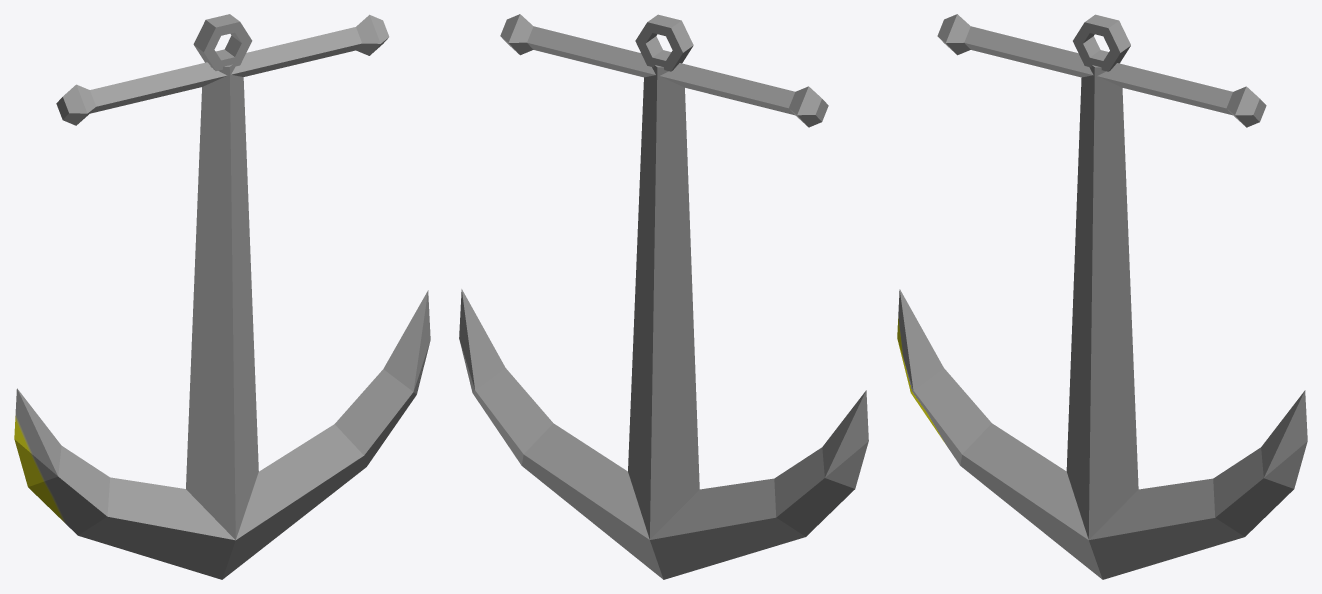
File: Neo.fbx
3 views of the same model, side by side, from view 1: azimuth 30°, elevation 25°; view 2: azimuth 150°, elevation 25°; view 3: azimuth 330°, elevation 25° (orthographic).
Visible parts, largest first — view 1: Damage4; view 2: Damage4; view 3: Damage4.
Part boxes in pixels (bbox=[...]): Damage4: bbox=[14, 14, 430, 579]; Damage4: bbox=[459, 14, 868, 579]; Damage4: bbox=[897, 14, 1307, 579].
Bounding box in the file's own units: 39.51 × 51.09 × 4.9.
Materials: 1 (1 with a texture image).
